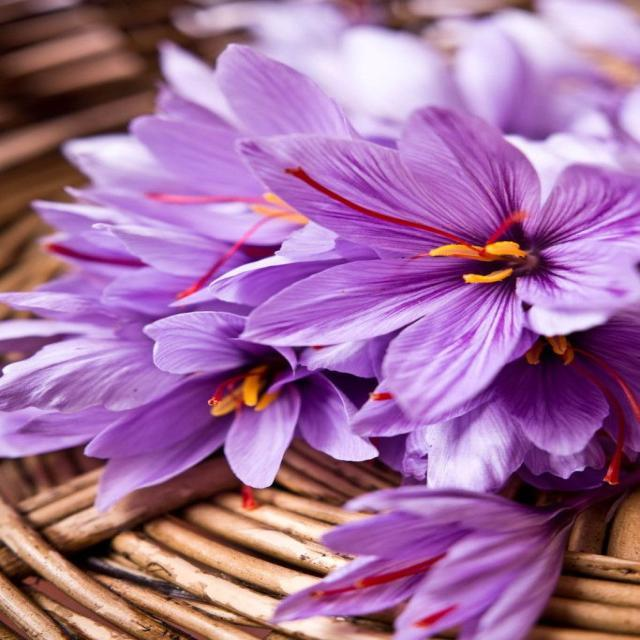Flower: (250, 106, 640, 424), (100, 134, 376, 300), (285, 488, 576, 640), (131, 318, 370, 492)
stigma: (285, 162, 464, 246), (308, 552, 448, 608), (168, 223, 265, 298), (136, 181, 289, 217)
